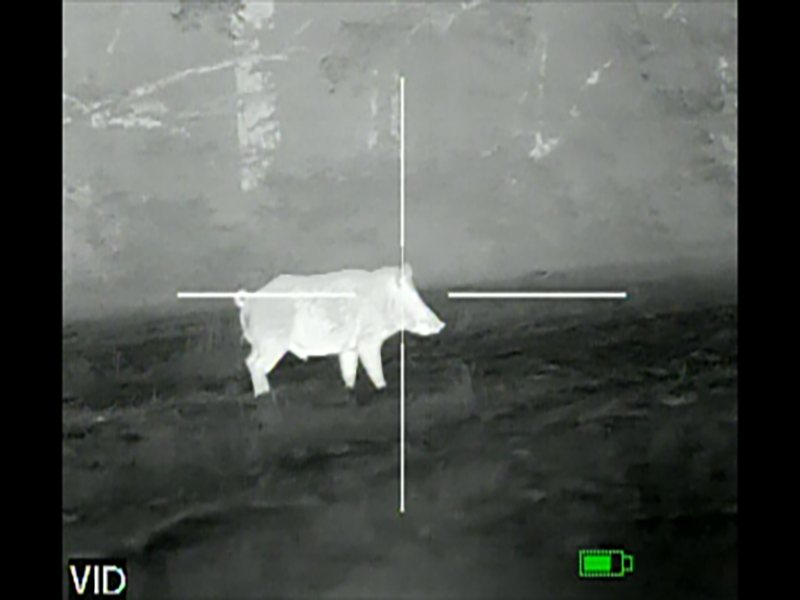cinghiale: (224, 263, 451, 401)
